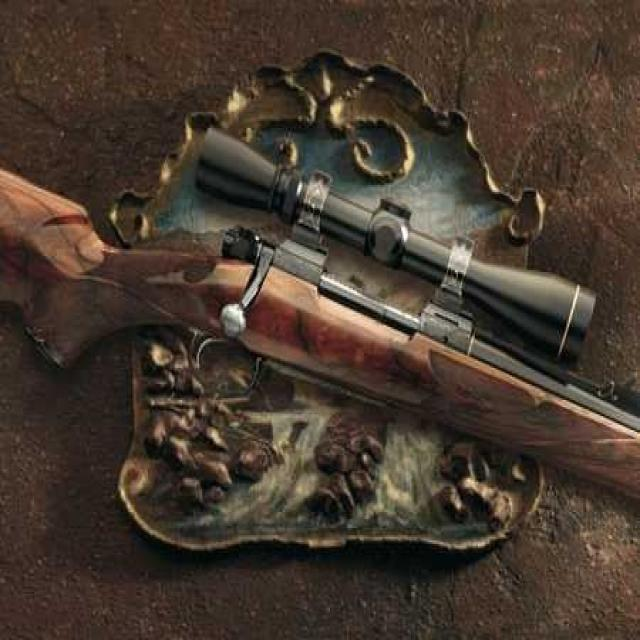heavyweapon: (1, 170, 640, 467)
